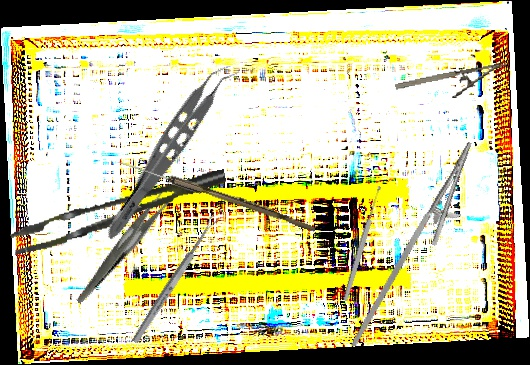Dressing Forceps: (49, 178, 204, 304)
Needle Holder: (350, 130, 489, 365), (394, 61, 511, 108)
Surgical Spoon: (116, 158, 318, 232), (130, 214, 220, 345), (341, 185, 384, 302)
Tissue Forceps: (100, 54, 242, 252), (5, 169, 233, 255)
